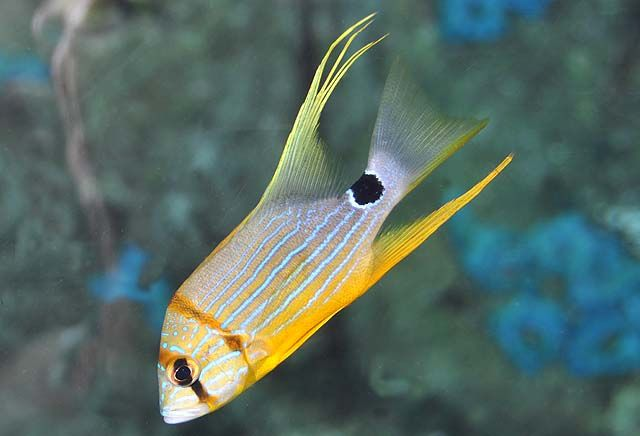fish: (156, 12, 513, 425)
